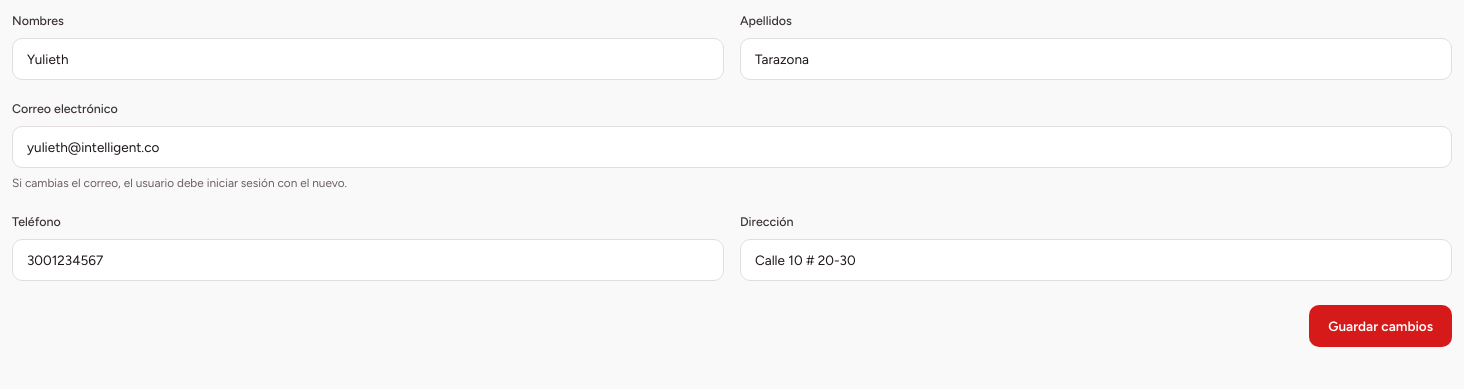
Test: UserPersonalDataForm contact data › does not let phone and address be emptied
Clear the field labelled "Teléfono". click: [368, 260]
box: [12,239,724,281]
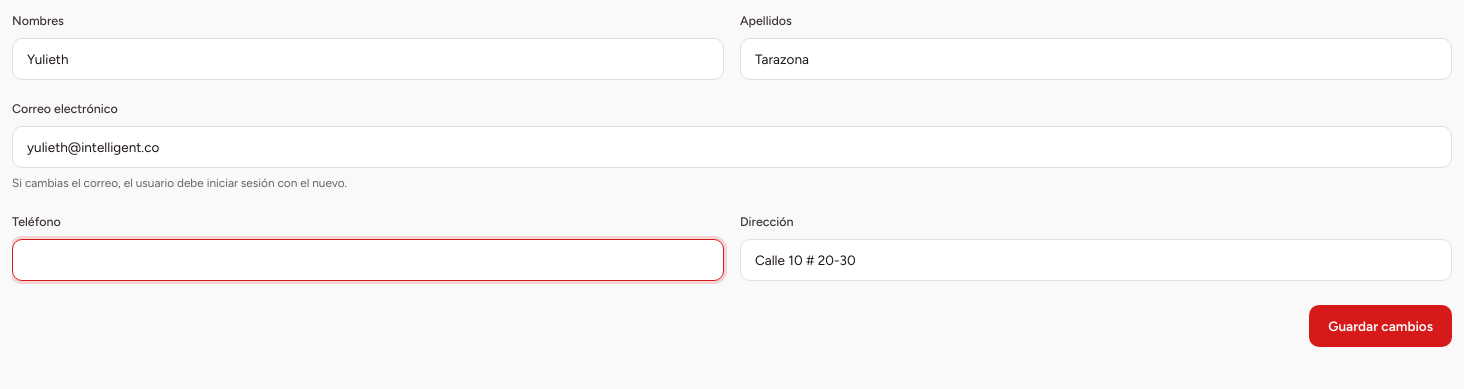
Clear the field labelled "Dirección". click: [1096, 260]
box: [740,239,1452,281]
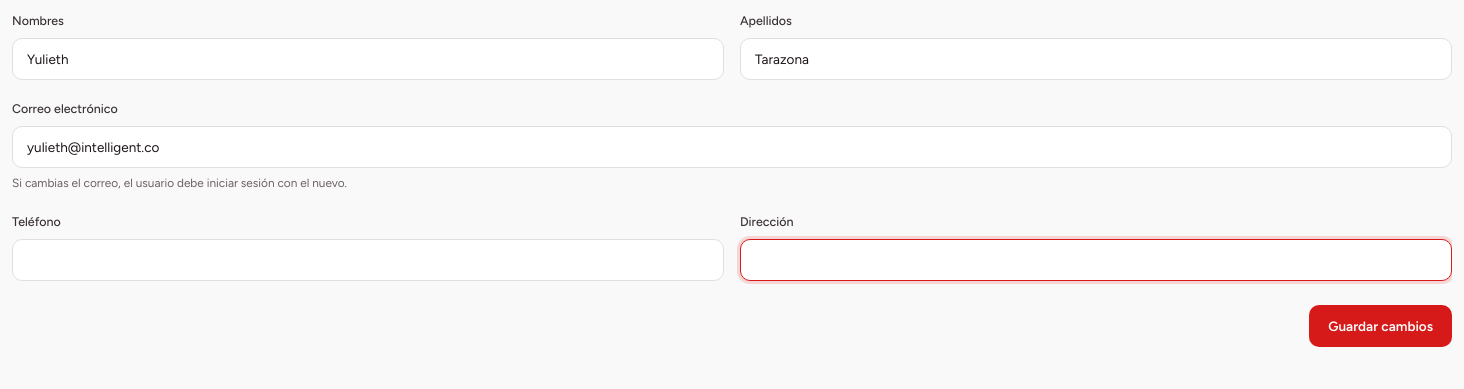
Click the button "Guardar cambios". click: [1381, 326]
box: [1309,305,1452,347]
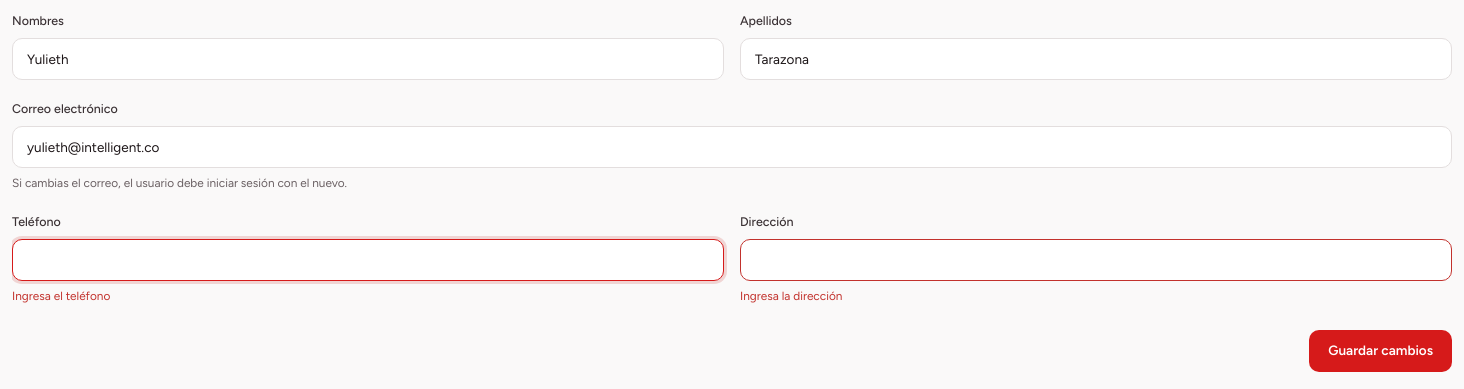
Now the text "Ingresa el teléfono" is shown, box [12,289,110,303]
Now the text "Ingresa la dirección" is shown, box [740,289,842,303]
